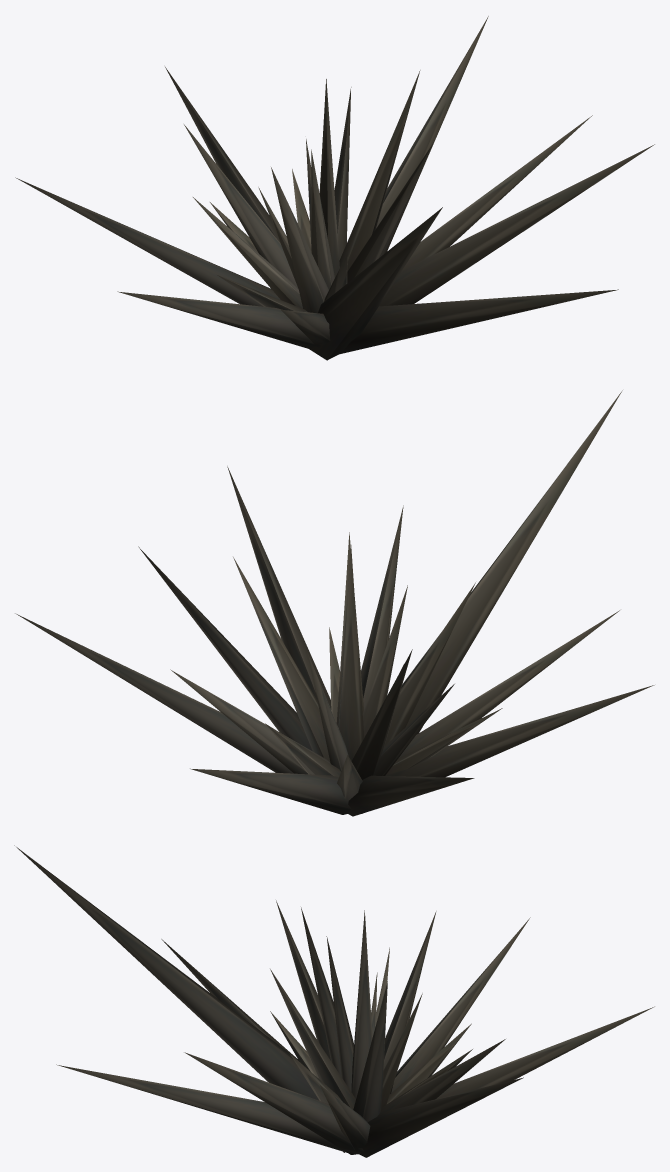
File: DE_Cactus_41.fbx
3 renders of one model, top to bottom at view 1: azimuth 30°, elevation 25°; view 2: azimuth 150°, elevation 25°; view 3: azimuth 270°, elevation 25°, orthographic. The views are drawn at different scales.
Parts seen in each view (by area): view 1: DE_Cactus_41; view 2: DE_Cactus_41; view 3: DE_Cactus_41.
Boxes of the visible parts, bbox=[...] form: DE_Cactus_41: bbox=[15, 16, 654, 360]; DE_Cactus_41: bbox=[15, 390, 654, 816]; DE_Cactus_41: bbox=[14, 845, 654, 1157].
Bounding box in the file's own units: 2.73 × 1.57 × 3.32.
